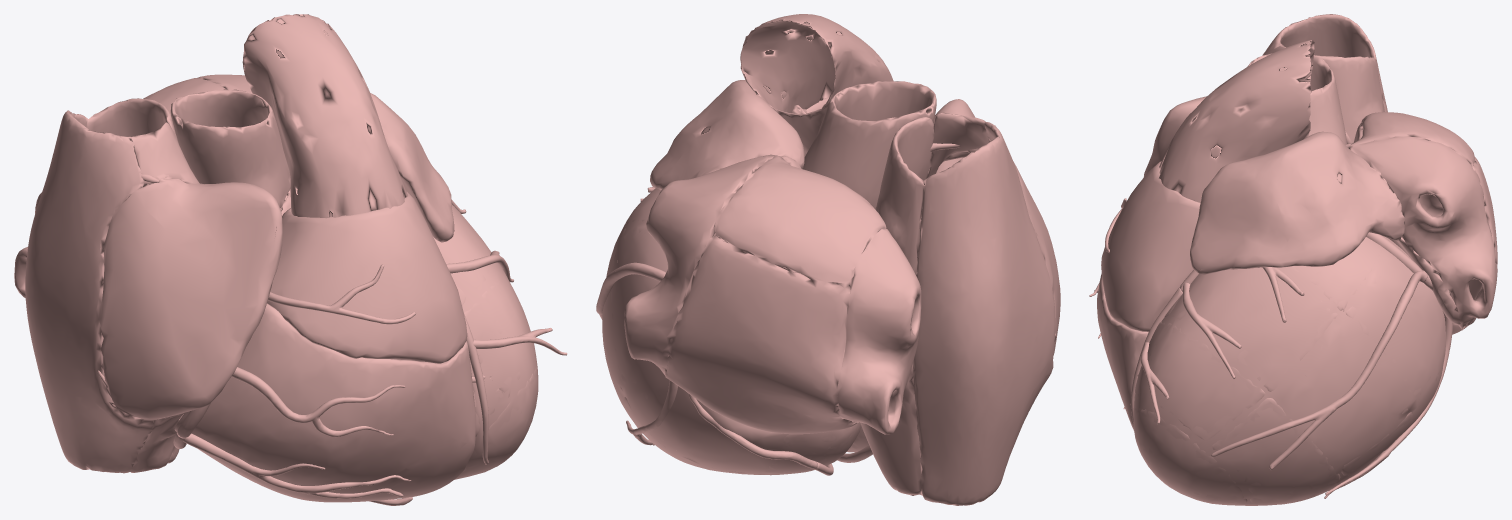
The model's file is anatomy.glb.
3 views of the same model, side by side, from view 1: azimuth 30°, elevation 25°; view 2: azimuth 150°, elevation 25°; view 3: azimuth 270°, elevation 25° (orthographic). The views are drawn at different scales.
Parts seen in each view (by area): view 1: atrium_right, myo_rv_inflow, myo_rv_outflow, pulm_trunk, myo_lv_free, aorta, artery_RCA, atrium_left, artery_LAD; view 2: atrium_left, atrium_right, myo_lv_free, pulm_trunk, aorta, artery_LCX; view 3: myo_lv_free, atrium_left, pulm_trunk, myo_rv_outflow, atrium_right, artery_LCX, artery_LAD, myo_rv_inflow, aorta.
Part boxes in pixels (box(x1,y1,x2,y2)): atrium_right: box(25, 98, 282, 473); myo_rv_inflow: box(191, 303, 475, 502); myo_rv_outflow: box(267, 191, 467, 363); pulm_trunk: box(242, 14, 407, 218); myo_lv_free: box(433, 204, 538, 479); aorta: box(170, 89, 290, 215); artery_RCA: box(97, 179, 416, 505); atrium_left: box(14, 74, 454, 297); artery_LAD: box(446, 200, 567, 464); atrium_left: box(624, 80, 921, 434); atrium_right: box(860, 99, 1060, 505); myo_lv_free: box(602, 188, 861, 475); pulm_trunk: box(740, 14, 893, 156); aorta: box(803, 81, 936, 208); artery_LCX: box(596, 262, 833, 475); myo_lv_free: box(1133, 236, 1445, 505); atrium_left: box(1190, 112, 1497, 334); pulm_trunk: box(1159, 40, 1314, 202); myo_rv_outflow: box(1101, 161, 1200, 331); atrium_right: box(1143, 14, 1387, 177); artery_LCX: box(1211, 232, 1452, 498); artery_LAD: box(1130, 267, 1304, 424); myo_rv_inflow: box(1097, 274, 1148, 430); aorta: box(1247, 53, 1346, 144).
Bounding box in the file's own units: 1.25 × 1.28 × 1.15.
